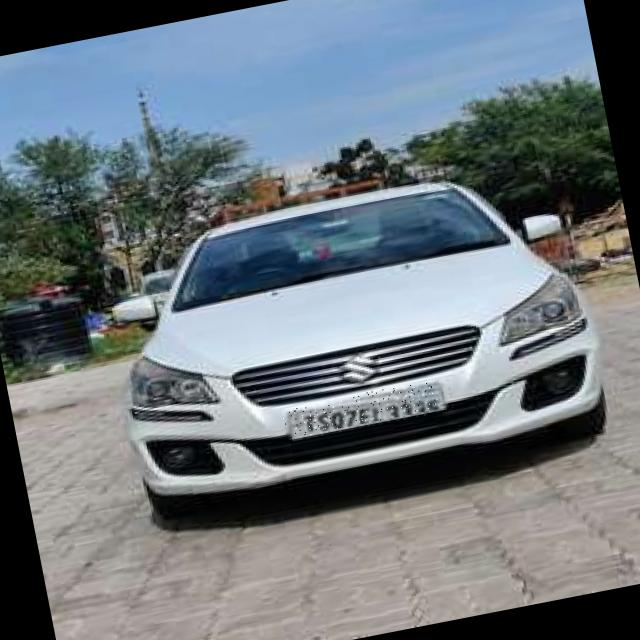Plate: (282, 381, 442, 440)
